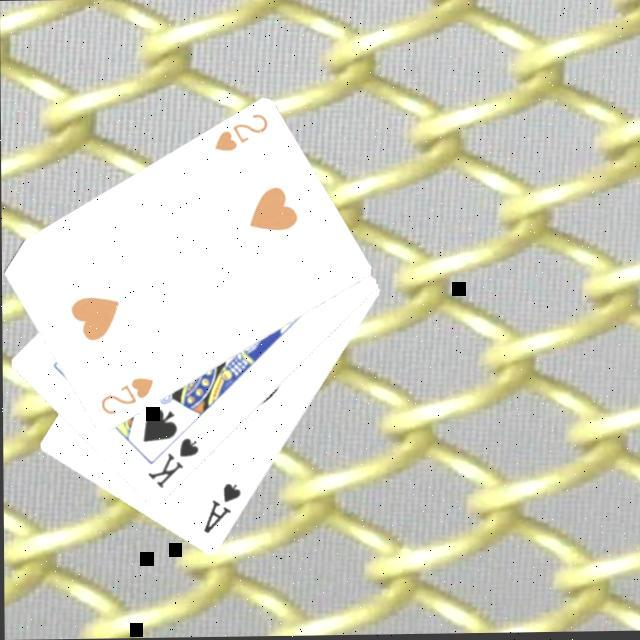2H: (209, 111, 271, 157), (96, 375, 156, 420)
AS: (198, 481, 244, 539)
KS: (142, 436, 200, 494)
